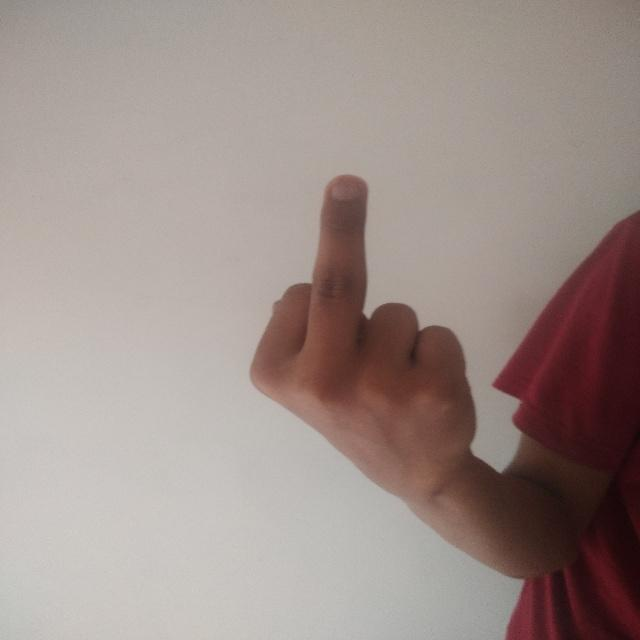Middle Finger: (237, 162, 486, 504)
